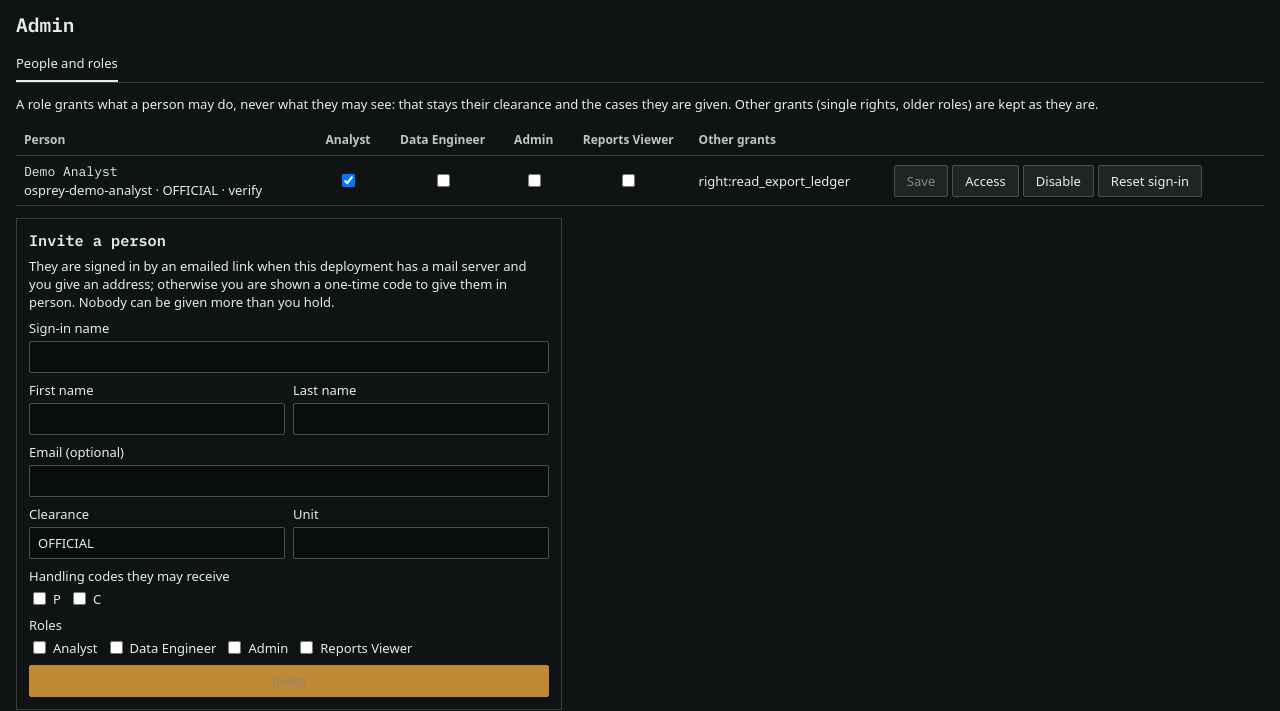
people: invite, access, disable, enable, reset sign-in › edits a person's access, and says a refusal above your own clearance in words
Click the button with aria-label "Edit access for osprey-demo-analyst" at (986, 180), box x1=952 y1=164 x2=1019 y2=196
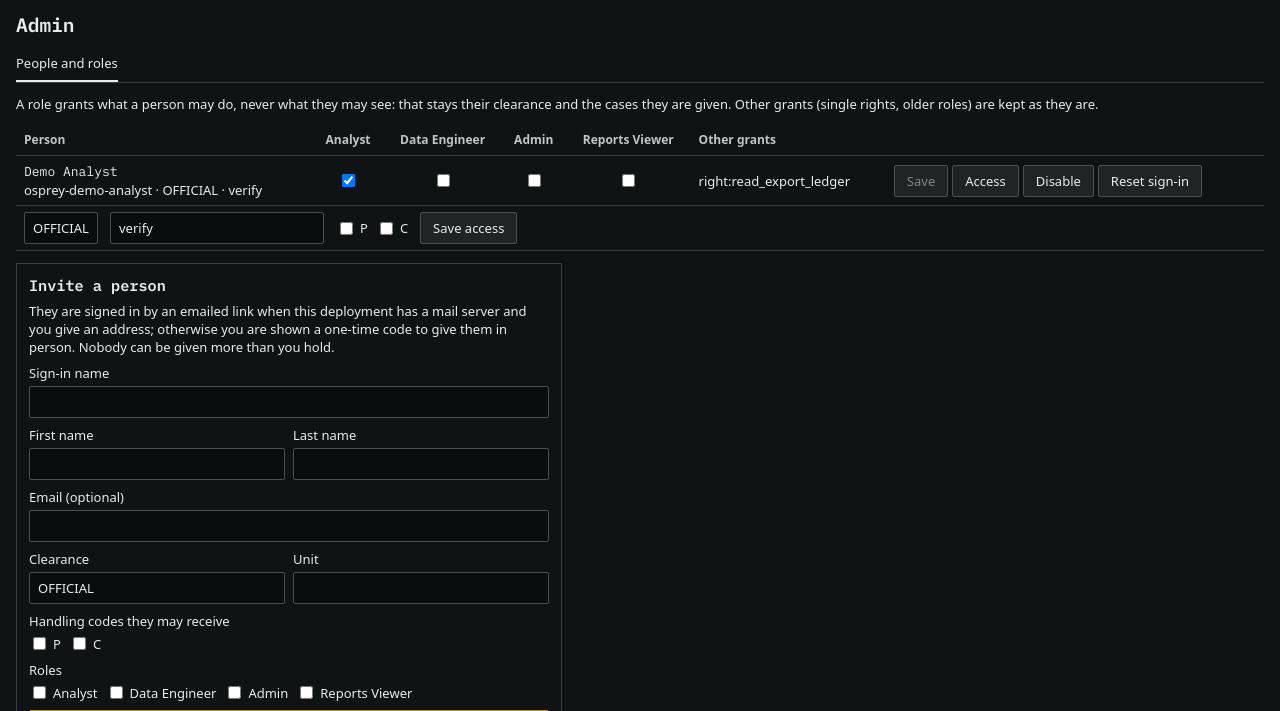
Expected: the dropdown named "Clearance for osprey-demo-analyst" shows "OFFICIAL"
Select "SECRET" in the dropdown named "Clearance for osprey-demo-analyst" at (61, 228), box x1=24 y1=212 x2=98 y2=244
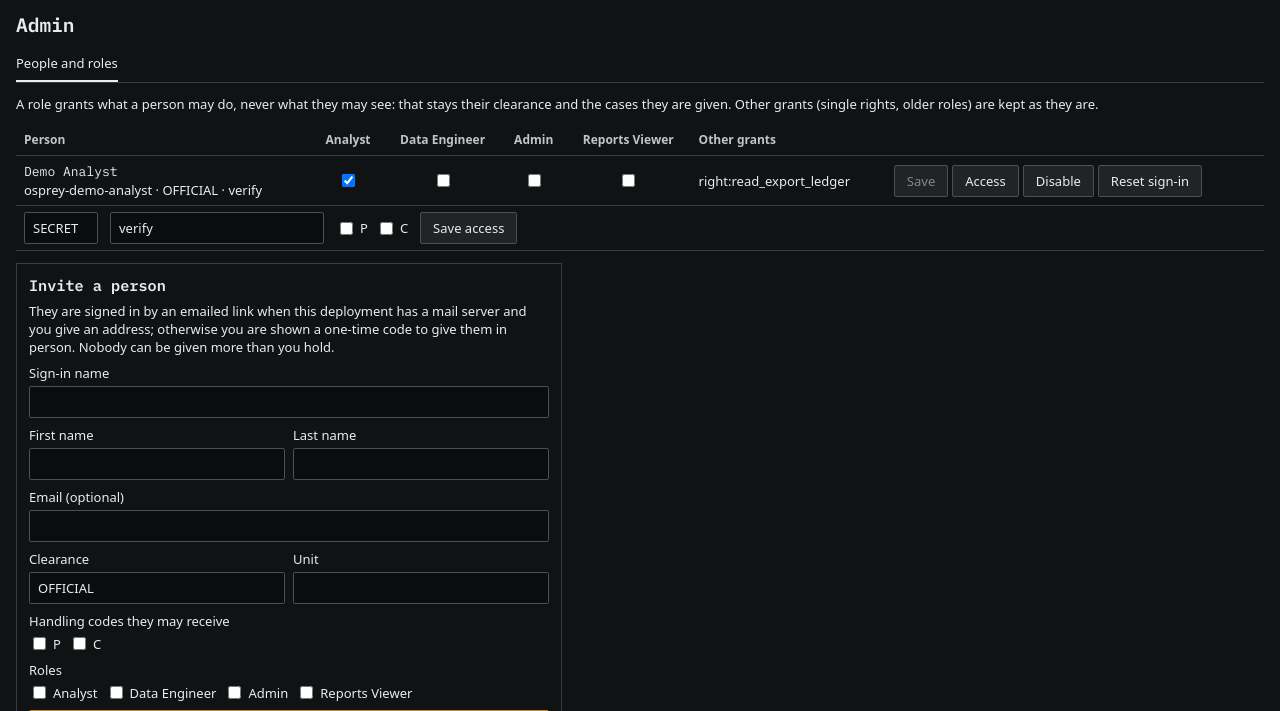
Click the button with aria-label "Save access for osprey-demo-analyst" at (469, 228), box x1=420 y1=212 x2=517 y2=244
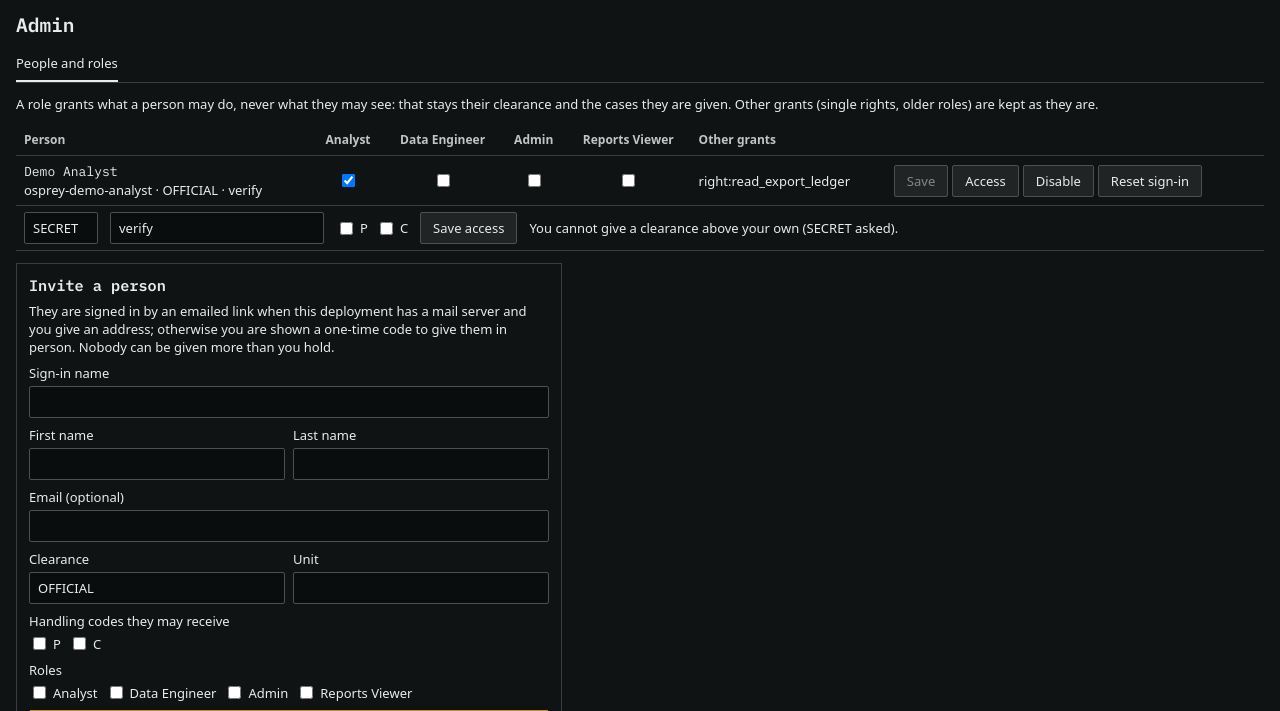
Expected: the text "You cannot give a clearance above your own (SECRET asked)." is shown, x1=529 y1=219 x2=898 y2=237
